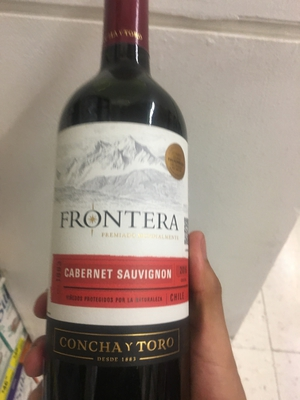frontera cabernet sauvignon: (45, 6, 208, 400)
